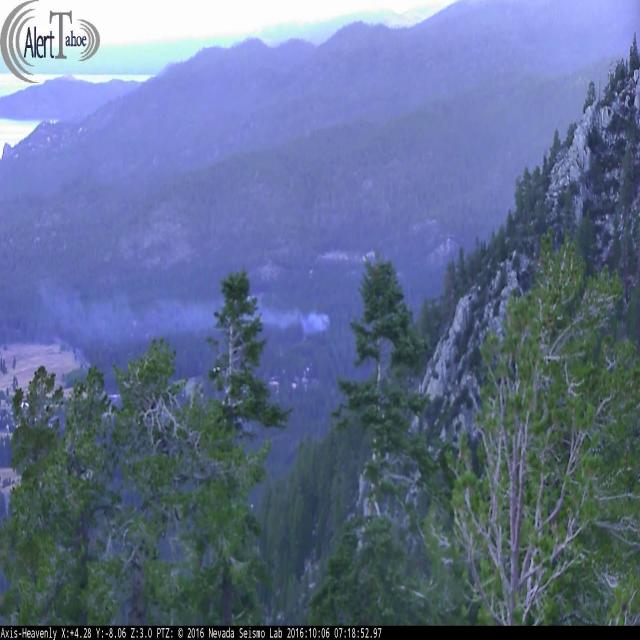smoke: (27, 286, 333, 334)
